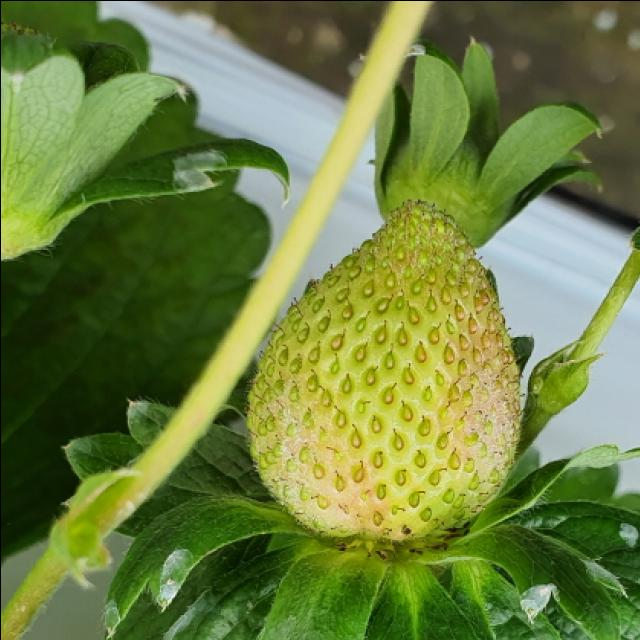Powdery Mildew Fruit: (243, 198, 521, 549)
